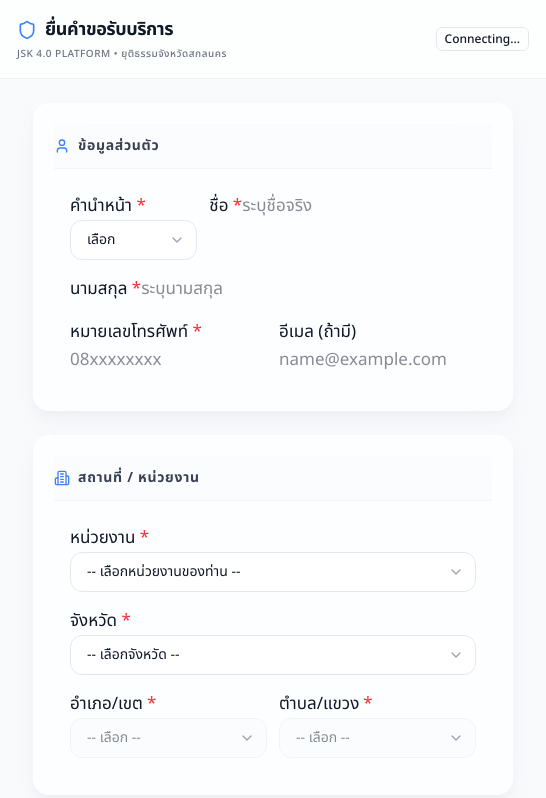
Test case: LIFF service-request-single validation (R3-M28-twin) › rejects over-long phone numbers without opening confirm (F7)
Type "0812345678901234" into the field named "phone" at (170, 360), box [70,347,269,374]
(page scrolled)
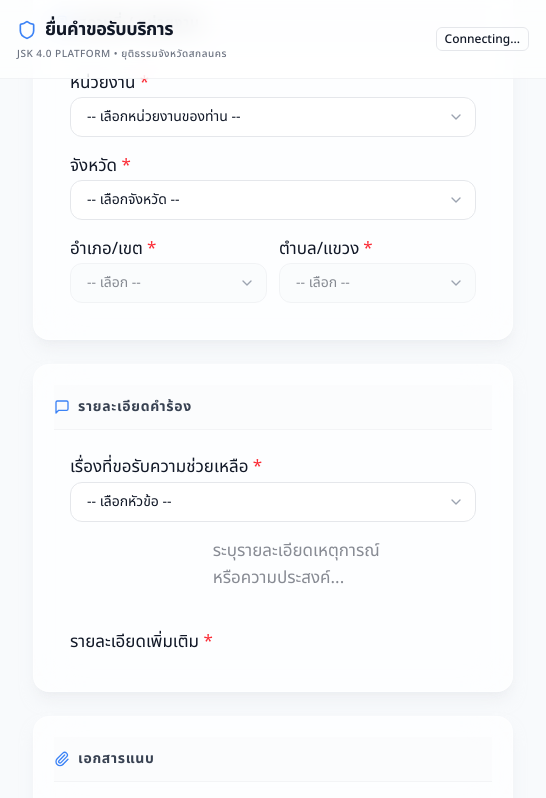
Submit the form
(page scrolled)
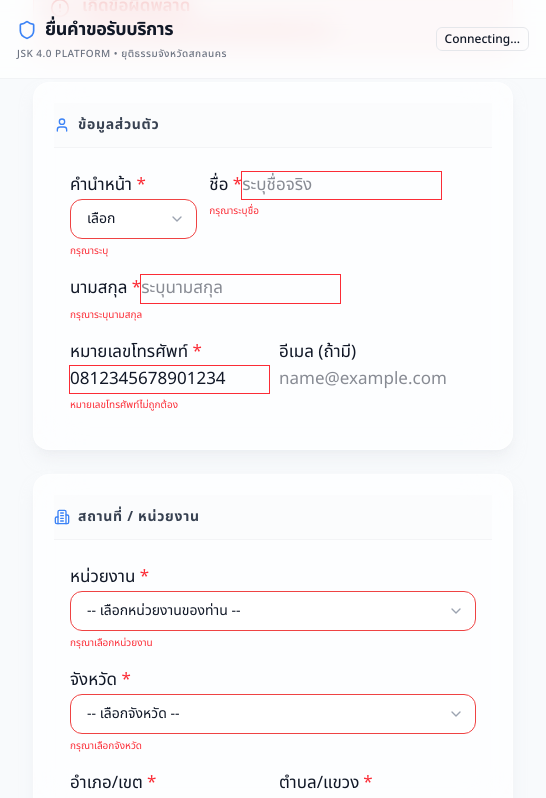
Check: the text "หมายเลขโทรศัพท์ไม่ถูกต้อง" is shown, box [70,397,178,413]
